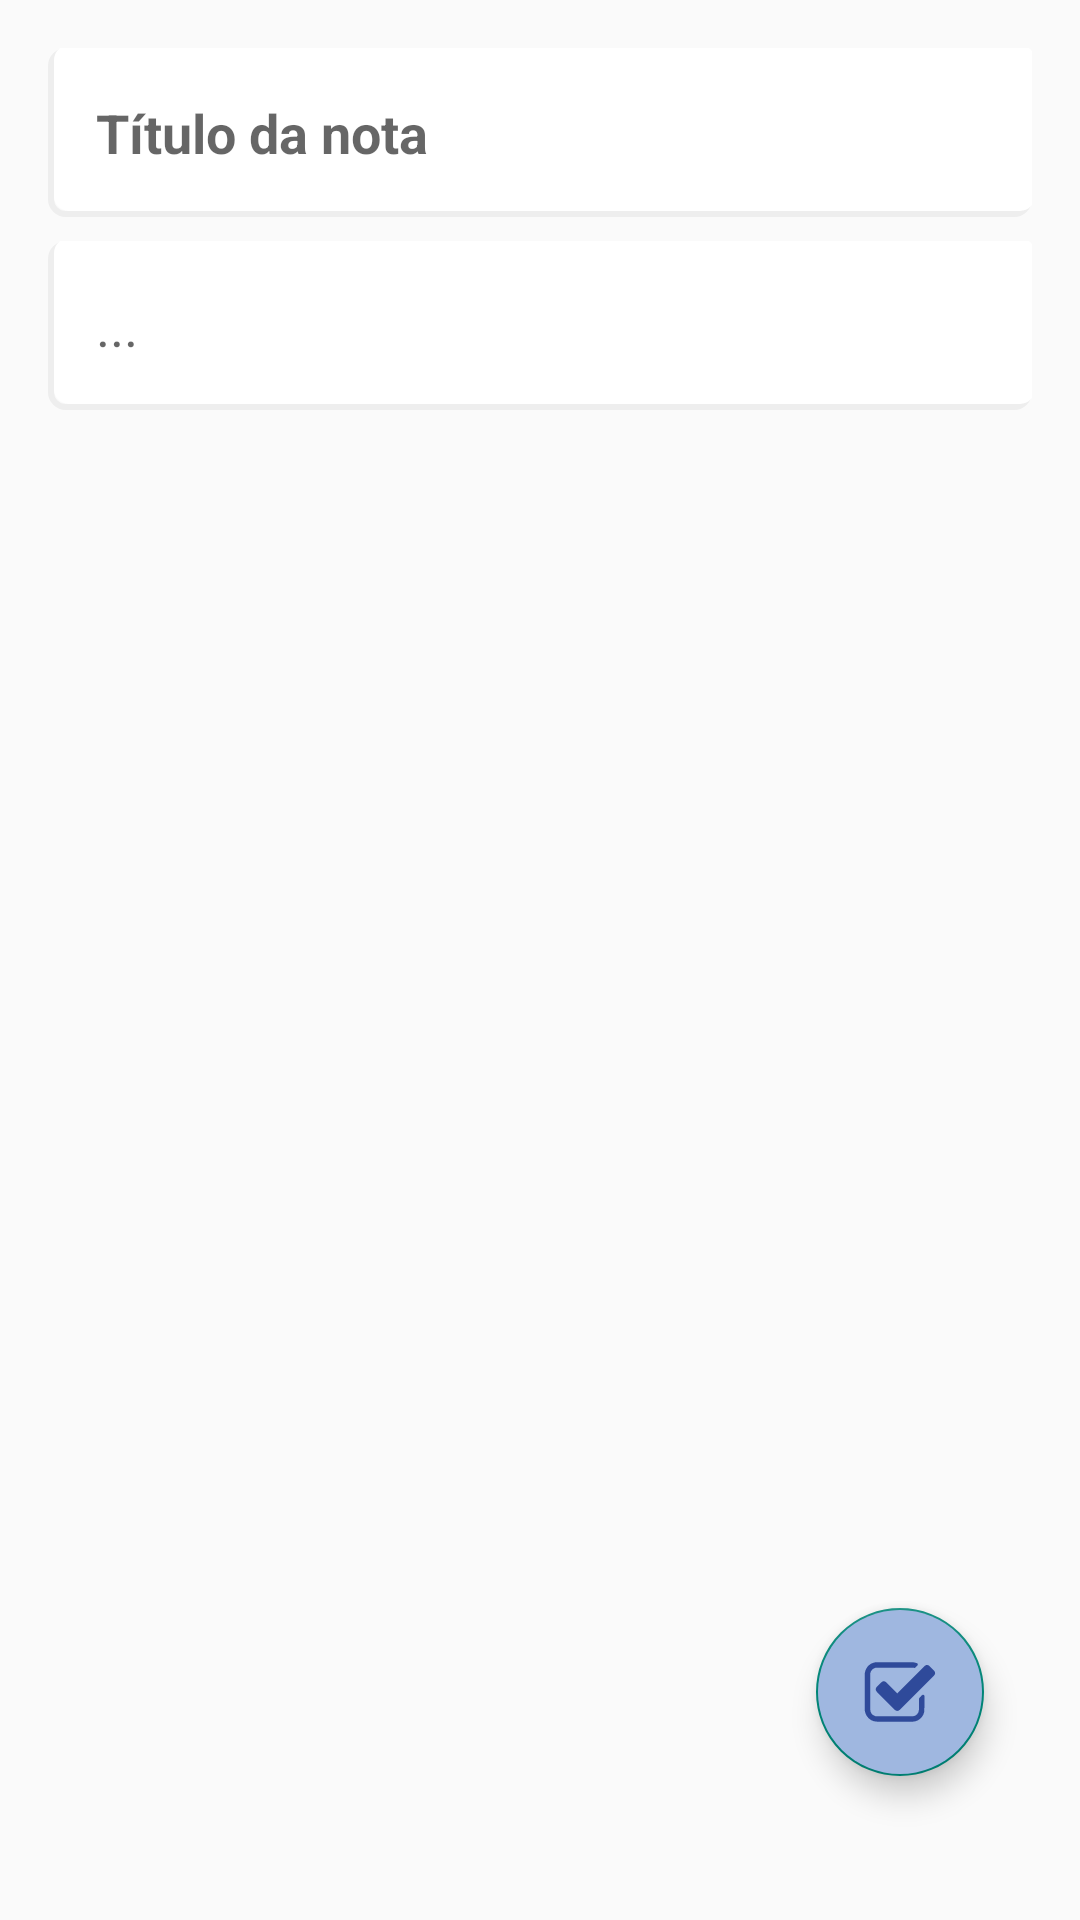

Icons on this 1080*1920 Android screen, each with the point to tap as (x=x, y=y):
check: (x=900, y=1692)
